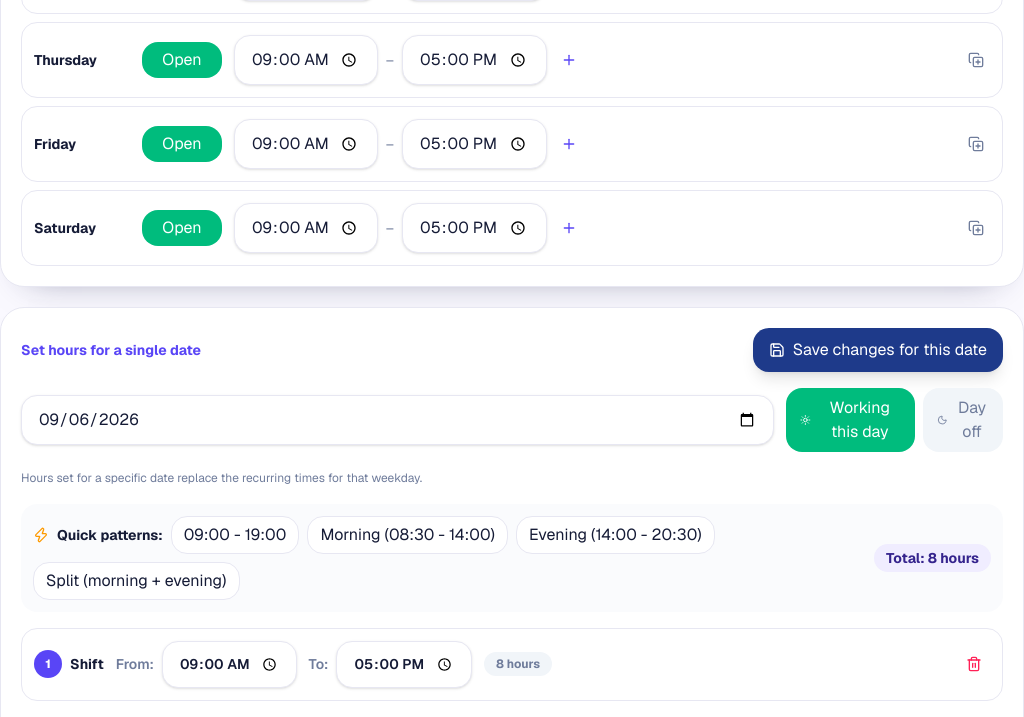
business hours & shifts screen › reports a refused save instead of pretending it landed
This screenshot has width=1024, height=717.
(page scrolled)
Click the button "Save changes for this date": x=878, y=350 top-left (753, 328), bottom-right (1003, 372)
(page scrolled)
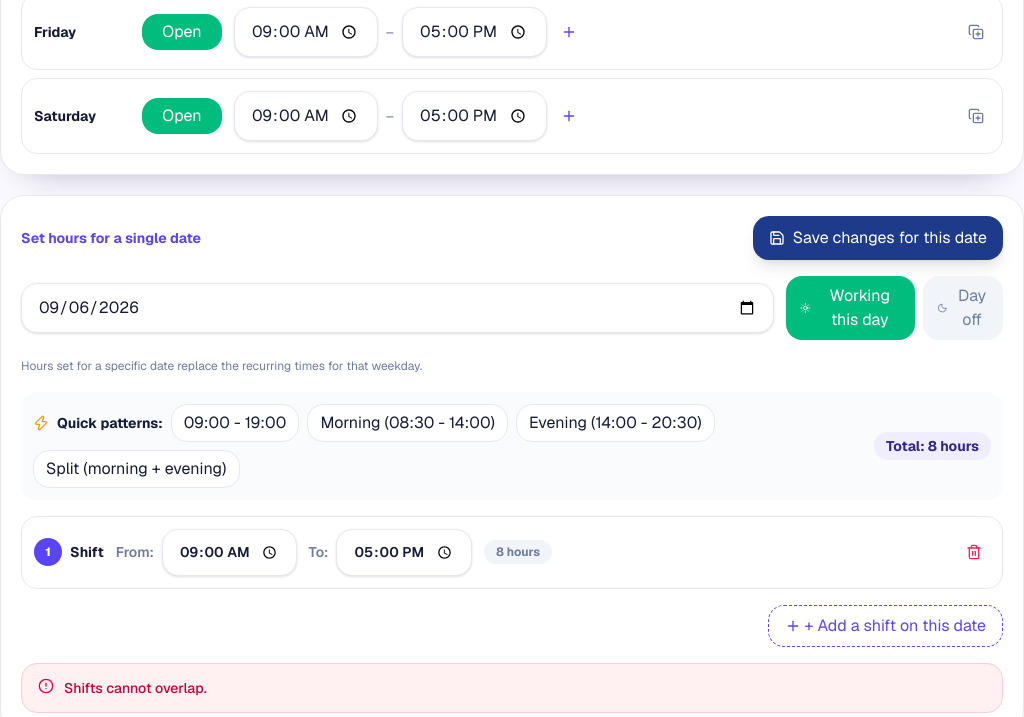
Check: the message reads "Shifts cannot overlap.", box top-left (64, 679), bottom-right (207, 697)
